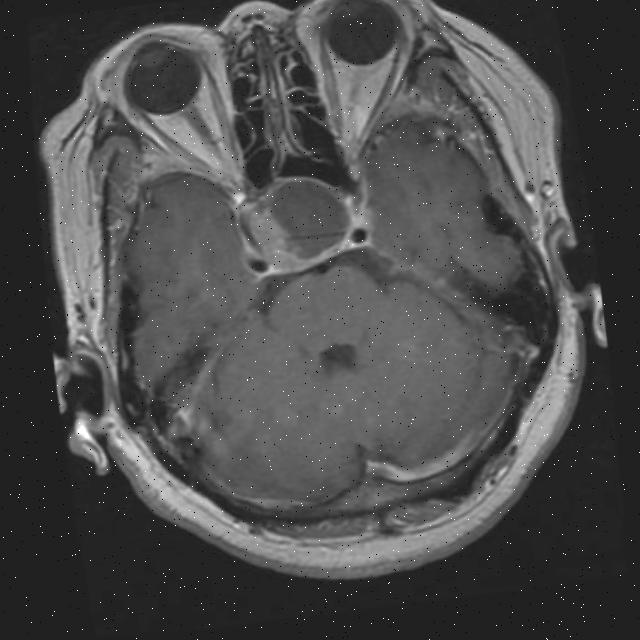Pituitary: (248, 169, 361, 274)
